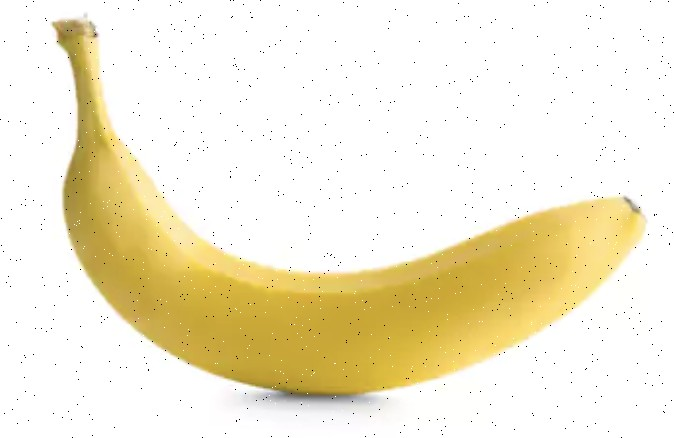fresh_banana: (51, 19, 648, 395)
